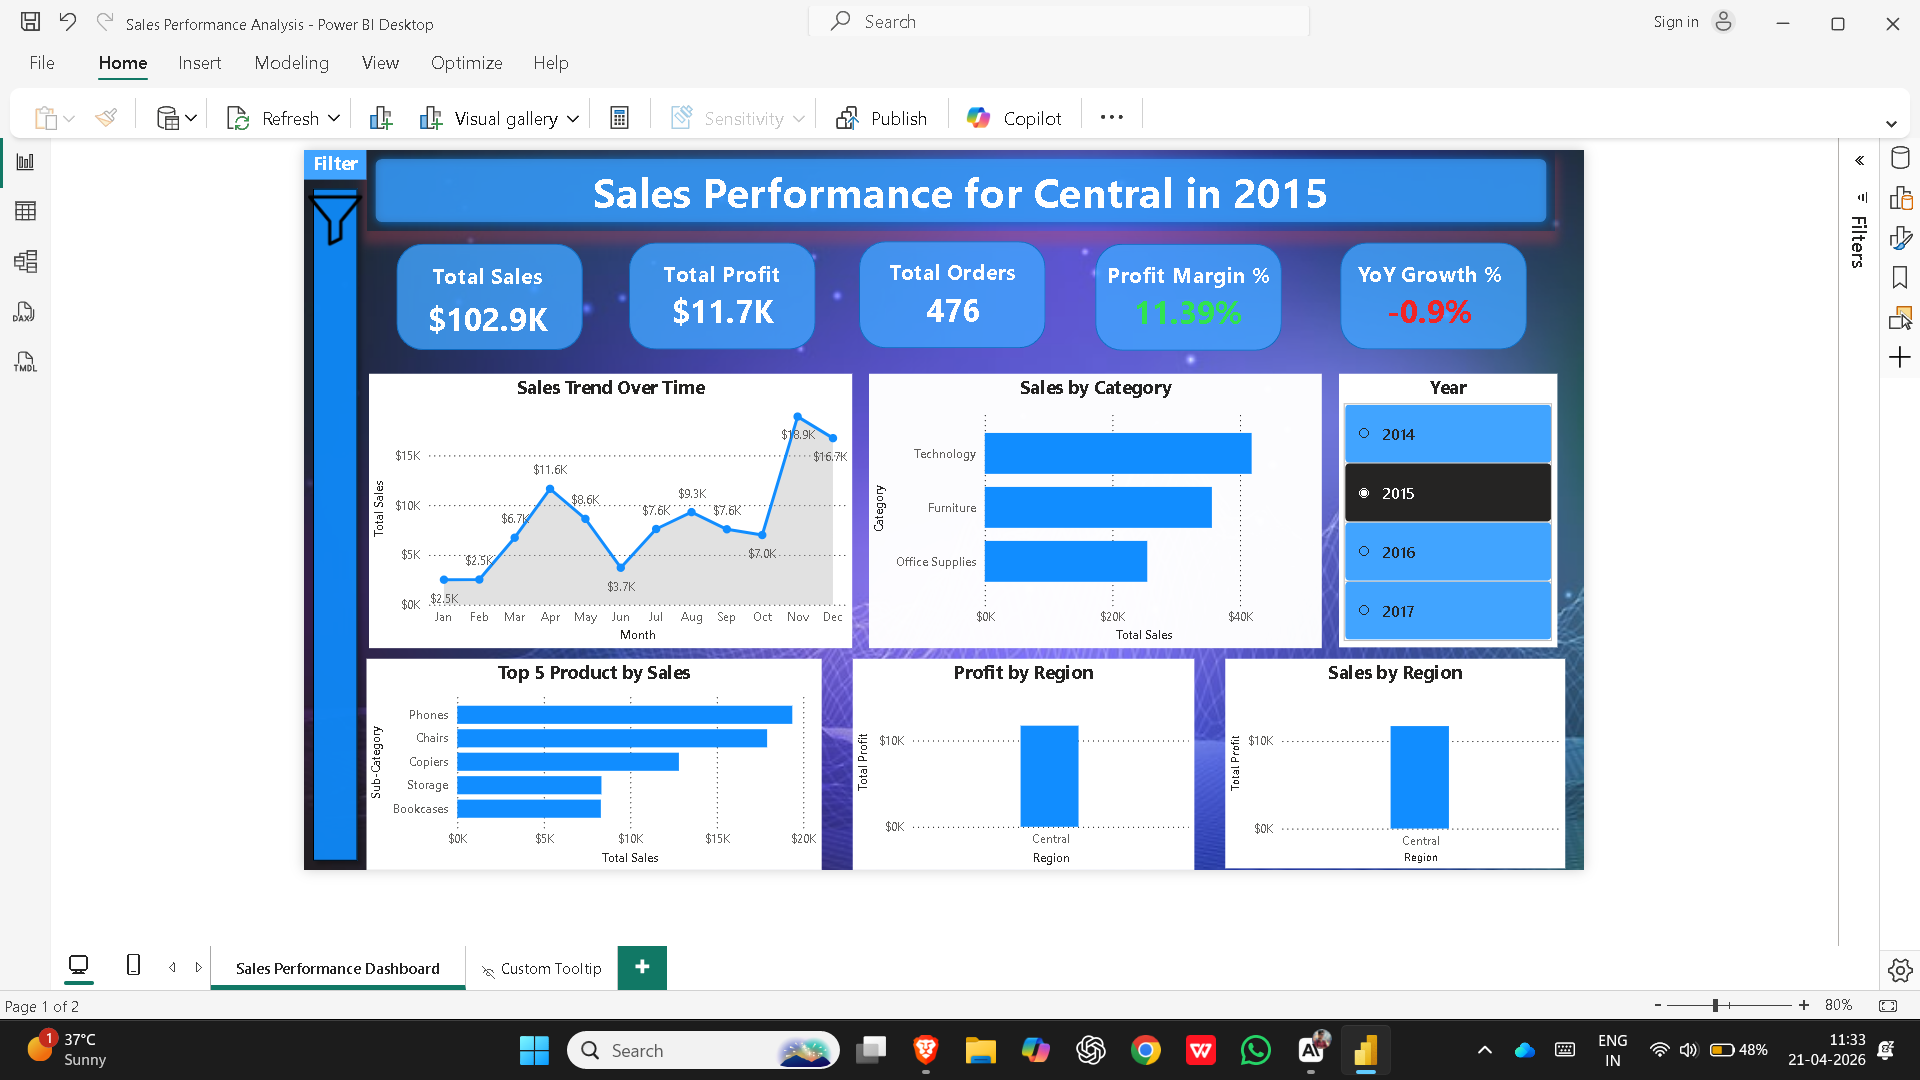

Layout of this report page (visuals, bound fields, positions):
{"tool":"powerbi","page":{"name":"Sales Performance Dashboard","canvas":[1280,720],"ordinal":0},"visuals":[{"type":"shape","title":"Filter","box":[0,0,62.5,720],"z":0,"group":"g1"},{"type":"shape","box":[62.6,0,1189,81],"z":1000},{"type":"actionButton","title":"Open Button","box":[0,31.2,62.5,78.8],"z":1000,"group":"g1"},{"type":"lineChart","title":"Sales Trend Over Time","fields":{"Category":["DateTable.Month"],"Y":["Key Measures.Total Sales"]},"box":[64.9,223.6,483.3,274.1],"z":3000},{"type":"barChart","title":"Sales by Category","fields":{"Category":["Sales_Data.Category"],"Y":["Key Measures.Total Sales"]},"box":[565.6,223.6,453,274.1],"z":4000},{"type":"clusteredColumnChart","title":"Sales by Region","fields":{"Category":["Sales_Data.Region"],"Y":["Key Measures.Total Profit"]},"box":[921.5,509.2,339.9,209.8],"z":5000},{"type":"columnChart","title":" Profit by Region","fields":{"Category":["Sales_Data.Region"],"Y":["Key Measures.Total Profit"]},"box":[548.9,508.8,341.2,211.2],"z":6000},{"type":"clusteredBarChart","title":"Top 5 Product by Sales","fields":{"Category":["Sales_Data.Sub-Category"],"Y":["Key Measures.Total Sales"]},"box":[62.5,508.8,455,211.2],"z":7000},{"type":"group","id":"g1","title":"Filter_Panel","box":[0,0,62.5,720],"z":9000},{"type":"advancedSlicerVisual","fields":{"Values":["DateTable.Year"]},"box":[1035.6,223.3,218.4,273.6],"z":10000},{"type":"shape","box":[92.5,93.8,186.2,106.2],"z":11000},{"type":"card","title":"Total Sales","fields":{"Values":["Key Measures.Total Sales"]},"box":[114.3,110,140,88.6],"z":12000},{"type":"shape","box":[324.9,92.9,186.6,107],"z":13000},{"type":"card","title":"Total Profit","fields":{"Values":["Key Measures.Total Profit"]},"box":[329.5,107.4,177.5,77.9],"z":14000},{"type":"shape","box":[555.6,91.5,186.6,107],"z":15000},{"type":"card","title":"Total Orders","fields":{"Values":["Key Measures.Total Orders"]},"box":[560.1,106.1,177.5,77.9],"z":16000},{"type":"shape","box":[791.7,94,186.6,107],"z":17000},{"type":"card","title":"Profit Margin %","fields":{"Values":["Key Measures.Profit Margin %"]},"box":[796.6,108.9,176.6,77.1],"z":18000},{"type":"shape","box":[1036,92.8,186.6,107],"z":19000},{"type":"card","title":"YoY Growth %","fields":{"Values":["Key Measures.YoY Growth %"]},"box":[1041.4,107.1,170,77.1],"z":20000}]}

Visuals, with their boxes on the page's 1280x720 design canvas (x1, y1, x2, y2). These are canvas units, not pixel positions in the 1920x1080 screenshot, which may show the page scaled, cropped or inside an application window:
"Filter" shape: l=0, t=0, r=62, b=720
shape: l=63, t=0, r=1252, b=81
"Open Button" actionButton: l=0, t=31, r=62, b=110
"Sales Trend Over Time" lineChart: l=65, t=224, r=548, b=498
"Sales by Category" barChart: l=566, t=224, r=1019, b=498
"Sales by Region" clusteredColumnChart: l=922, t=509, r=1261, b=719
" Profit by Region" columnChart: l=549, t=509, r=890, b=720
"Top 5 Product by Sales" clusteredBarChart: l=62, t=509, r=518, b=720
"Filter_Panel" group: l=0, t=0, r=62, b=720
advancedSlicerVisual - DateTable.Year: l=1036, t=223, r=1254, b=497
shape: l=92, t=94, r=279, b=200
"Total Sales" card: l=114, t=110, r=254, b=199
shape: l=325, t=93, r=512, b=200
"Total Profit" card: l=330, t=107, r=507, b=185
shape: l=556, t=92, r=742, b=198
"Total Orders" card: l=560, t=106, r=738, b=184
shape: l=792, t=94, r=978, b=201
"Profit Margin %" card: l=797, t=109, r=973, b=186
shape: l=1036, t=93, r=1223, b=200
"YoY Growth %" card: l=1041, t=107, r=1211, b=184
